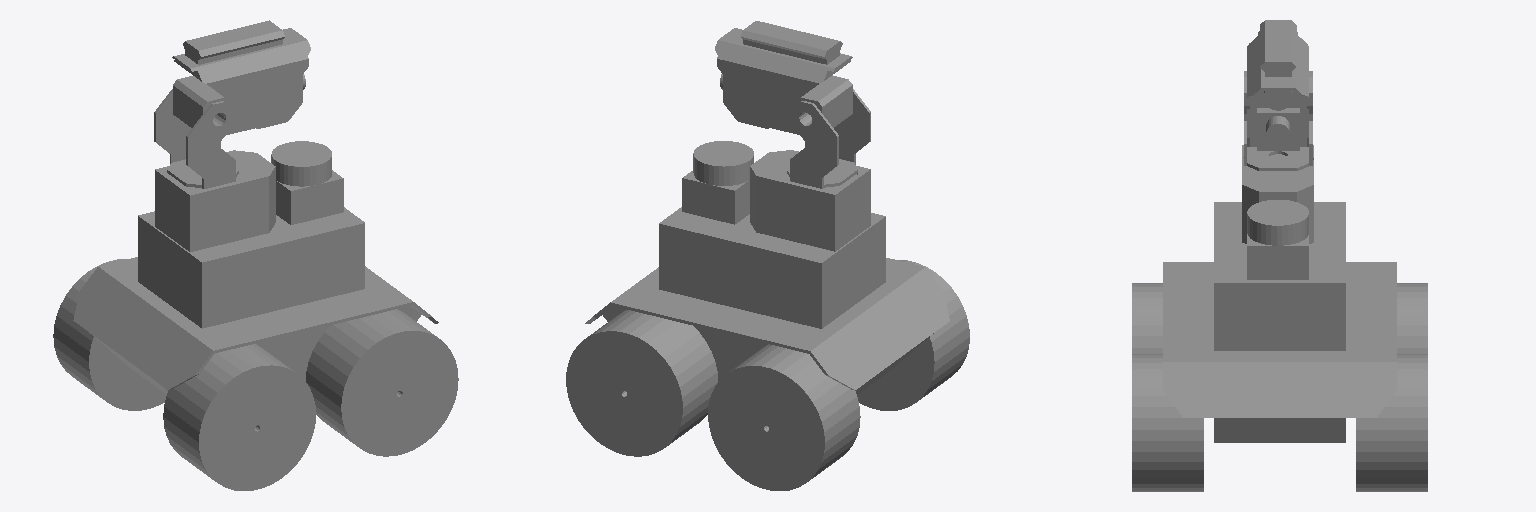
The robot description file, URDF, robot "rasp_rover":
<?xml version="1.0" encoding="utf-8"?>
<robot
  name="rasp_rover">
  <link name="base_footprint"></link>
  <link
    name="base_link">
    <inertial>
      <origin
        xyz="-0.000162422869269728 4.57988681701327E-15 0.0452361557646266"
        rpy="0 0 0" />
      <mass
        value="1.04143299444137" />
      <inertia
        ixx="0.00130964432205038"
        ixy="-2.24104232540393E-17"
        ixz="2.87884702855107E-05"
        iyy="0.00259816035443436"
        iyz="-1.97265629397348E-17"
        izz="0.00240218497851418" />
    </inertial>
    <visual>
      <origin
        xyz="0 0 0"
        rpy="0 0 0" />
      <geometry>
        <mesh
          filename="package://ugv_description/meshes/rasp_rover/base_link.stl" />
      </geometry>
      <material
        name="">
        <color
          rgba="0.627450980392157 0.627450980392157 0.627450980392157 1" />
      </material>
    </visual>
    <collision>
      <origin
        xyz="0 0 0"
        rpy="0 0 0" />
      <geometry>
        <mesh
          filename="package://ugv_description/meshes/rasp_rover/base_link.stl" />
      </geometry>
    </collision>
  </link>
  
  <joint name="base_joint" type="fixed">
    <parent link="base_footprint"/>
    <child link="base_link"/>
    <origin xyz="0.000460087791654118 6.50856019576702E-10 0.03" rpy="0 0 0"/> 
  </joint>

  <link name="base_imu_link"> 
      <origin xyz="0 0 0" rpy="0 0 0"/> 
  </link>
  
  <joint name="imu_joint" type="fixed">
      <parent link="base_link" />
      <child link="base_imu_link" />
      <origin xyz="0 0 0" rpy="0 0 0"/>
  </joint>
      
  <link
    name="left_up_wheel_link">
    <inertial>
      <origin
        xyz="-6.24500451351651E-16 0.0267900126654631 0"
        rpy="0 0 0" />
      <mass
        value="0.210587238755431" />
      <inertia
        ixx="0.000115401806837977"
        ixy="-1.32501719335198E-18"
        ixz="-4.34981020424034E-35"
        iyy="0.000168890965481856"
        iyz="2.371691443642E-21"
        izz="0.000115401806837977" />
    </inertial>
    <visual>
      <origin
        xyz="0 0 0"
        rpy="0 0 0" />
      <geometry>
        <mesh
          filename="package://ugv_description/meshes/rasp_rover/left_up_wheel_link.stl" />
      </geometry>
      <material
        name="">
        <color
          rgba="0.627450980392157 0.627450980392157 0.627450980392157 1" />
      </material>
    </visual>
    <collision>
      <origin
        xyz="0 0 0"
        rpy="0 0 0" />
      <geometry>
        <mesh
          filename="package://ugv_description/meshes/rasp_rover/left_up_wheel_link.stl" />
      </geometry>
    </collision>
  </link>
  <joint
    name="left_up_wheel_link_joint"
    type="continuous">
    <origin
      xyz="0.0494657123506755 0.0380100014305094 0.00674802802973084"
      rpy="0 0 0" />
    <parent
      link="base_link" />
    <child
      link="left_up_wheel_link" />
    <axis
      xyz="0 -1 0" />
  </joint>
  <link
    name="left_down_wheel_link">
    <inertial>
      <origin
        xyz="-6.27969898303604E-16 0.0267900126654662 0"
        rpy="0 0 0" />
      <mass
        value="0.210587238755431" />
      <inertia
        ixx="0.000115401806837977"
        ixy="-1.32808581259249E-18"
        ixz="1.27628957046806E-32"
        iyy="0.000168890965481856"
        iyz="-5.16307112015383E-19"
        izz="0.000115401806837977" />
    </inertial>
    <visual>
      <origin
        xyz="0 0 0"
        rpy="0 0 0" />
      <geometry>
        <mesh
          filename="package://ugv_description/meshes/rasp_rover/left_down_wheel_link.stl" />
      </geometry>
      <material
        name="">
        <color
          rgba="0.627450980392157 0.627450980392157 0.627450980392157 1" />
      </material>
    </visual>
    <collision>
      <origin
        xyz="0 0 0"
        rpy="0 0 0" />
      <geometry>
        <mesh
          filename="package://ugv_description/meshes/rasp_rover/left_down_wheel_link.stl" />
      </geometry>
    </collision>
  </link>
  <joint
    name="left_down_wheel_link_joint"
    type="continuous">
    <origin
      xyz="-0.0475324306493252 0.0380100014305063 0.00674802802973084"
      rpy="0 0 0" />
    <parent
      link="base_link" />
    <child
      link="left_down_wheel_link" />
    <axis
      xyz="0 -1 0" />
  </joint>
  <link
    name="right_up_wheel_link">
    <inertial>
      <origin
        xyz="1.85962356624714E-15 -0.0267900015875978 8.99280649946377E-15"
        rpy="0 0 0" />
      <mass
        value="0.210587238755431" />
      <inertia
        ixx="0.000115401806837977"
        ixy="-1.32501719335198E-18"
        ixz="-4.34981020424034E-35"
        iyy="0.000168890965481856"
        iyz="2.371691443642E-21"
        izz="0.000115401806837977" />
    </inertial>
    <visual>
      <origin
        xyz="0 0 0"
        rpy="0 0 0" />
      <geometry>
        <mesh
          filename="package://ugv_description/meshes/rasp_rover/right_up_wheel_link.stl" />
      </geometry>
      <material
        name="">
        <color
          rgba="0.627450980392157 0.627450980392157 0.627450980392157 1" />
      </material>
    </visual>
    <collision>
      <origin
        xyz="0 0 0"
        rpy="0 0 0" />
      <geometry>
        <mesh
          filename="package://ugv_description/meshes/rasp_rover/right_up_wheel_link.stl" />
      </geometry>
    </collision>
  </link>
  <joint
    name="right_up_wheel_link_joint"
    type="continuous">
    <origin
      xyz="0.0494657123506773 -0.0380100014304871 0.00674802802973084"
      rpy="0 0 0" />
    <parent
      link="base_link" />
    <child
      link="right_up_wheel_link" />
    <axis
      xyz="0 1 0" />
  </joint>
  <link
    name="right_down_wheel_link">
    <inertial>
      <origin
        xyz="1.81799020282369E-15 -0.0267900015875967 9.39526234589039E-15"
        rpy="0 0 0" />
      <mass
        value="0.210587238755431" />
      <inertia
        ixx="0.000115401806837977"
        ixy="-1.32501720355927E-18"
        ixz="1.27637476075258E-32"
        iyy="0.000168890965481856"
        iyz="-5.18688069050555E-19"
        izz="0.000115401806837977" />
    </inertial>
    <visual>
      <origin
        xyz="0 0 0"
        rpy="0 0 0" />
      <geometry>
        <mesh
          filename="package://ugv_description/meshes/rasp_rover/right_down_wheel_link.stl" />
      </geometry>
      <material
        name="">
        <color
          rgba="0.627450980392157 0.627450980392157 0.627450980392157 1" />
      </material>
    </visual>
    <collision>
      <origin
        xyz="0 0 0"
        rpy="0 0 0" />
      <geometry>
        <mesh
          filename="package://ugv_description/meshes/rasp_rover/right_down_wheel_link.stl" />
      </geometry>
    </collision>
  </link>
  <joint
    name="right_down_wheel_link_joint"
    type="continuous">
    <origin
      xyz="-0.0475324306493234 -0.0380100014304901 0.00674802802973144"
      rpy="0 0 0" />
    <parent
      link="base_link" />
    <child
      link="right_down_wheel_link" />
    <axis
      xyz="0 1 0" />
  </joint>
  <link
    name="base_lidar_link">
    <inertial>
      <origin
        xyz="0 -8.5259736538555E-19 0.0165546434494574"
        rpy="0 0 0" />
      <mass
        value="0.0418000091653573" />
      <inertia
        ixx="8.26853377699878E-06"
        ixy="2.40188591344428E-23"
        ixz="-8.79312987446486E-22"
        iyy="8.26853377699876E-06"
        iyz="2.55603864237559E-22"
        izz="8.32524607487378E-06" />
    </inertial>
    <visual>
      <origin
        xyz="0 0 0"
        rpy="0 0 0" />
      <geometry>
        <mesh
          filename="package://ugv_description/meshes/rasp_rover/base_lidar_link.stl" />
      </geometry>
      <material
        name="">
        <color
          rgba="0.627450980392157 0.627450980392157 0.627450980392157 1" />
      </material>
    </visual>
    <collision>
      <origin
        xyz="0 0 0"
        rpy="0 0 0" />
      <geometry>
        <mesh
          filename="package://ugv_description/meshes/rasp_rover/base_lidar_link.stl" />
      </geometry>
    </collision>
  </link>
  <joint
    name="base_lidar_link_joint"
    type="fixed">
    <origin
      xyz="0.0316958390518911 -0.00101477740749894 0.0976480280297308"
      rpy="0 0 1.5708" />
    <parent
      link="base_link" />
    <child
      link="base_lidar_link" />
    <axis
      xyz="0 0 0" />
  </joint>
  <link
    name="pt_base_link">
    <inertial>
      <origin
        xyz="0.000134379819489959 2.90833197105934E-16 0.0182617060774291"
        rpy="0 0 0" />
      <mass
        value="0.0945048921416348" />
      <inertia
        ixx="2.38145161249806E-05"
        ixy="2.8154367304661E-19"
        ixz="-2.31618131911413E-07"
        iyy="4.1008262732435E-05"
        iyz="-5.24766720164598E-19"
        izz="4.37961106646478E-05" />
    </inertial>
    <visual>
      <origin
        xyz="0 0 0"
        rpy="0 0 0" />
      <geometry>
        <mesh
          filename="package://ugv_description/meshes/rasp_rover/pt_base_link.stl" />
      </geometry>
      <material
        name="">
        <color
          rgba="0.627450980392157 0.627450980392157 0.627450980392157 1" />
      </material>
    </visual>
    <collision>
      <origin
        xyz="0 0 0"
        rpy="0 0 0" />
      <geometry>
        <mesh
          filename="package://ugv_description/meshes/rasp_rover/pt_base_link.stl" />
      </geometry>
    </collision>
  </link>
  <joint
    name="pt_base_link_joint"
    type="fixed">
    <origin
      xyz="-0.02571 -0.0010148 0.097648"
      rpy="0 0 0" />
    <parent
      link="base_link" />
    <child
      link="pt_base_link" />
    <axis
      xyz="0 0 0" />
  </joint>
  <link
    name="pt_link1">
    <inertial>
      <origin
        xyz="-0.0033812921652727 -8.75612604489907E-15 0.0176096758355075"
        rpy="0 0 0" />
      <mass
        value="0.00710917409663916" />
      <inertia
        ixx="3.89716322571471E-06"
        ixy="-2.93525486696339E-19"
        ixz="2.32919366130508E-07"
        iyy="2.4980668051168E-06"
        iyz="-2.81783604495276E-19"
        izz="2.60402792588347E-06" />
    </inertial>
    <visual>
      <origin
        xyz="0 0 0"
        rpy="0 0 0" />
      <geometry>
        <mesh
          filename="package://ugv_description/meshes/rasp_rover/pt_link1.stl" />
      </geometry>
      <material
        name="">
        <color
          rgba="0.627450980392157 0.627450980392157 0.627450980392157 1" />
      </material>
    </visual>
    <collision>
      <origin
        xyz="0 0 0"
        rpy="0 0 0" />
      <geometry>
        <mesh
          filename="package://ugv_description/meshes/rasp_rover/pt_link1.stl" />
      </geometry>
    </collision>
  </link>
  <joint
    name="pt_base_link_to_pt_link1"
    type="revolute">
    <origin
      xyz="-0.010151 0 0.0383"
      rpy="0 0 0" />
    <parent
      link="pt_base_link" />
    <child
      link="pt_link1" />
    <axis
      xyz="0 0 1" />
    <limit
      lower="-3.14"
      upper="3.14"
      effort="0"
      velocity="0" />
  </joint>
  <link
    name="pt_link2">
    <inertial>
      <origin
        xyz="0.0218201278828442 0.0119590002643802 0.0200000000000005"
        rpy="0 0 0" />
      <mass
        value="0.0970496053012515" />
      <inertia
        ixx="3.07158301509253E-05"
        ixy="-9.60865010663691E-07"
        ixz="2.64790390663251E-19"
        iyy="3.74067734460566E-05"
        iyz="-1.69709121639232E-18"
        izz="4.94991610517831E-05" />
    </inertial>
    <visual>
      <origin
        xyz="0 0 0"
        rpy="0 0 0" />
      <geometry>
        <mesh
          filename="package://ugv_description/meshes/rasp_rover/pt_link2.stl" />
      </geometry>
      <material
        name="">
        <color
          rgba="0.627450980392157 0.627450980392157 0.627450980392157 1" />
      </material>
    </visual>
    <collision>
      <origin
        xyz="0 0 0"
        rpy="0 0 0" />
      <geometry>
        <mesh
          filename="package://ugv_description/meshes/rasp_rover/pt_link2.stl" />
      </geometry>
    </collision>
  </link>
  <joint
    name="pt_link1_to_pt_link2"
    type="revolute">
    <origin
      xyz="0 0.02 0.043003"
      rpy="1.5708 0 0" />
    <parent
      link="pt_link1" />
    <child
      link="pt_link2" />
    <axis
      xyz="0 0 1" />
    <limit
      lower="-0.5233333"
      upper="1.5707963"
      effort="0"
      velocity="0" />
  </joint>
  <link
    name="pt_camera_link">
    <inertial>
      <origin
        xyz="0.00630730338217479 1.15370105053482E-16 0.000950308188413934"
        rpy="0 -1.5708 1.5708" />
      <mass
        value="0.00623651844028495" />
      <inertia
        ixx="5.11295942352593E-07"
        ixy="2.50916422532913E-21"
        ixz="-4.00917493406375E-08"
        iyy="3.99078324787848E-07"
        iyz="-6.43452110015932E-22"
        izz="4.02518684222241E-07" />
    </inertial>
    <visual>
      <origin
        xyz="0 0 0"
        rpy="0 -1.5708 1.5708" />
      <geometry>
        <mesh
          filename="package://ugv_description/meshes/rasp_rover/pt_camera_link.stl" />
      </geometry>
      <material
        name="">
        <color
          rgba="0.627450980392157 0.627450980392157 0.627450980392157 1" />
      </material>
    </visual>
    <collision>
      <origin
        xyz="0 0 0"
        rpy="0 -1.5708 1.5708" />
      <geometry>
        <mesh
          filename="package://ugv_description/meshes/rasp_rover/pt_camera_link.stl" />
      </geometry>
    </collision>
  </link>
  <joint
    name="pt_camera_link_joint"
    type="fixed">
    <origin
      xyz="0.047686 -0.000569 0.02"
      rpy="3.14 -1.5708 0" />
    <parent
      link="pt_link2" />
    <child
      link="pt_camera_link" />
    <axis
      xyz="0 0 0" />
  </joint>
</robot>

--- What the picture shows (computed from the rendered views, not written in the file) ---
3 views of the same robot in one strip: view 1: azimuth 30°, elevation 25°; view 2: azimuth 150°, elevation 25°; view 3: azimuth 270°, elevation 25° (orthographic).
Robot: rasp_rover — 12 links, 11 joints (2 revolute, 4 continuous, 5 fixed); root link base_footprint; default pose: every joint at zero.
Links seen in each view (by area): view 1: base_link, right_up_wheel_link, right_down_wheel_link, pt_link2, pt_base_link, left_down_wheel_link, pt_link1, base_lidar_link; view 2: base_link, left_up_wheel_link, left_down_wheel_link, pt_link2, pt_base_link, right_down_wheel_link, pt_link1, base_lidar_link; view 3: base_link, left_up_wheel_link, right_up_wheel_link, pt_link2, base_lidar_link, pt_base_link, left_down_wheel_link, right_down_wheel_link, pt_link1, pt_camera_link.
Boxes of the visible links, left/top/right/bottom form: base_link: left=73, top=207, right=438, bottom=394; right_up_wheel_link: left=306, top=309, right=458, bottom=456; right_down_wheel_link: left=163, top=344, right=315, bottom=490; pt_link2: left=172, top=20, right=310, bottom=134; pt_base_link: left=155, top=150, right=275, bottom=251; left_down_wheel_link: left=53, top=259, right=166, bottom=410; pt_link1: left=154, top=89, right=238, bottom=188; base_lidar_link: left=271, top=141, right=343, bottom=224; base_link: left=585, top=207, right=949, bottom=394; left_up_wheel_link: left=566, top=310, right=717, bottom=456; left_down_wheel_link: left=708, top=344, right=860, bottom=490; pt_link2: left=715, top=21, right=852, bottom=134; pt_base_link: left=750, top=150, right=870, bottom=251; right_down_wheel_link: left=857, top=260, right=969, bottom=410; pt_link1: left=787, top=89, right=870, bottom=188; base_lidar_link: left=682, top=141, right=753, bottom=224; base_link: left=1163, top=202, right=1396, bottom=442; left_up_wheel_link: left=1356, top=354, right=1427, bottom=491; right_up_wheel_link: left=1132, top=354, right=1203, bottom=491; pt_link2: left=1247, top=20, right=1308, bottom=146; base_lidar_link: left=1247, top=200, right=1308, bottom=279; pt_base_link: left=1242, top=145, right=1313, bottom=243; left_down_wheel_link: left=1397, top=283, right=1427, bottom=353; right_down_wheel_link: left=1132, top=283, right=1162, bottom=353; pt_link1: left=1244, top=71, right=1312, bottom=170; pt_camera_link: left=1257, top=108, right=1299, bottom=150.
Bounding box of the posed robot: 0.1847 × 0.1716 × 0.2536 m (x, y, z).
Meshes: 10 distinct files referenced, 10 mesh visuals loaded (10 binary STL).